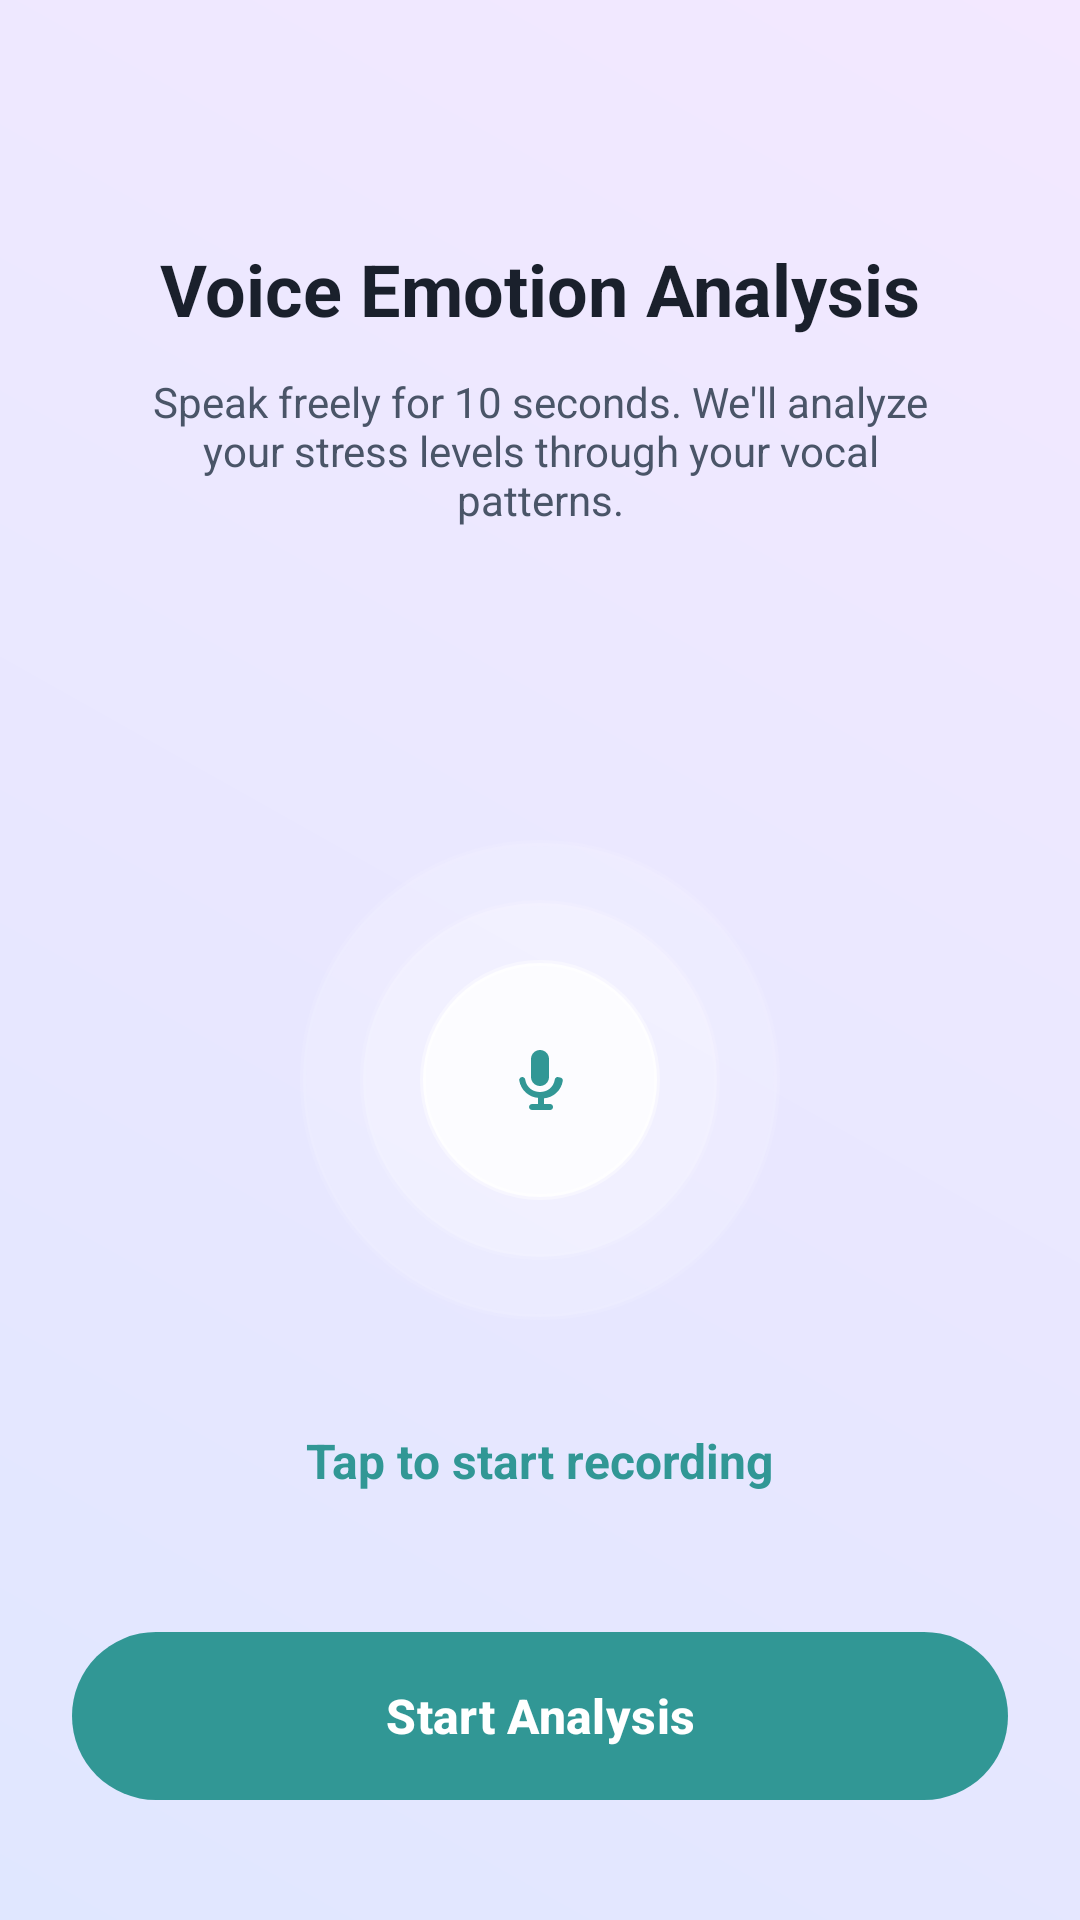

Screen size 1080x1920. Icon name, then its box in pixels as (x1, y1, x2, y2):
mic: (423, 963, 657, 1197)
